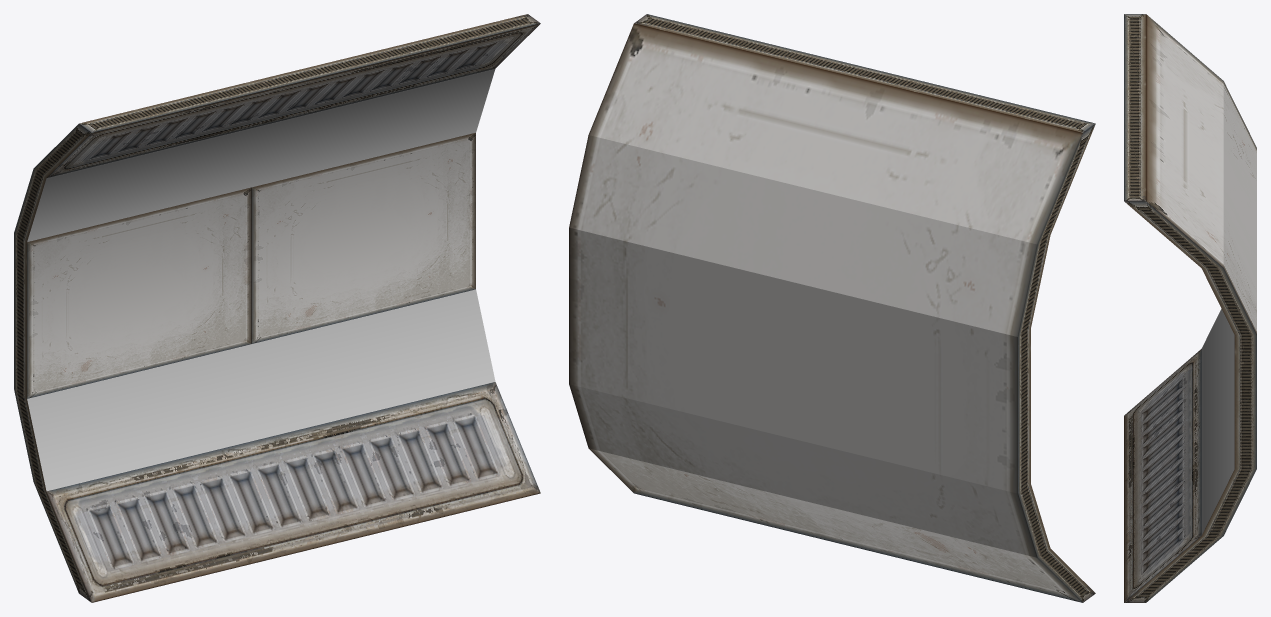
The model's file is scifi_wall_big_4.FBX.
3 views of the same model, side by side, from view 1: azimuth 30°, elevation 25°; view 2: azimuth 150°, elevation 25°; view 3: azimuth 270°, elevation 25° (orthographic). The views are drawn at different scales.
Parts seen in each view (by area): view 1: Plane167; view 2: Plane167; view 3: Plane167.
Part boxes in pixels (left/top/right/bottom): Plane167: left=14, top=14, right=540, bottom=602; Plane167: left=569, top=14, right=1095, bottom=602; Plane167: left=1124, top=14, right=1256, bottom=602.
Size of the model in its own units: 508 by 508 by 152.
